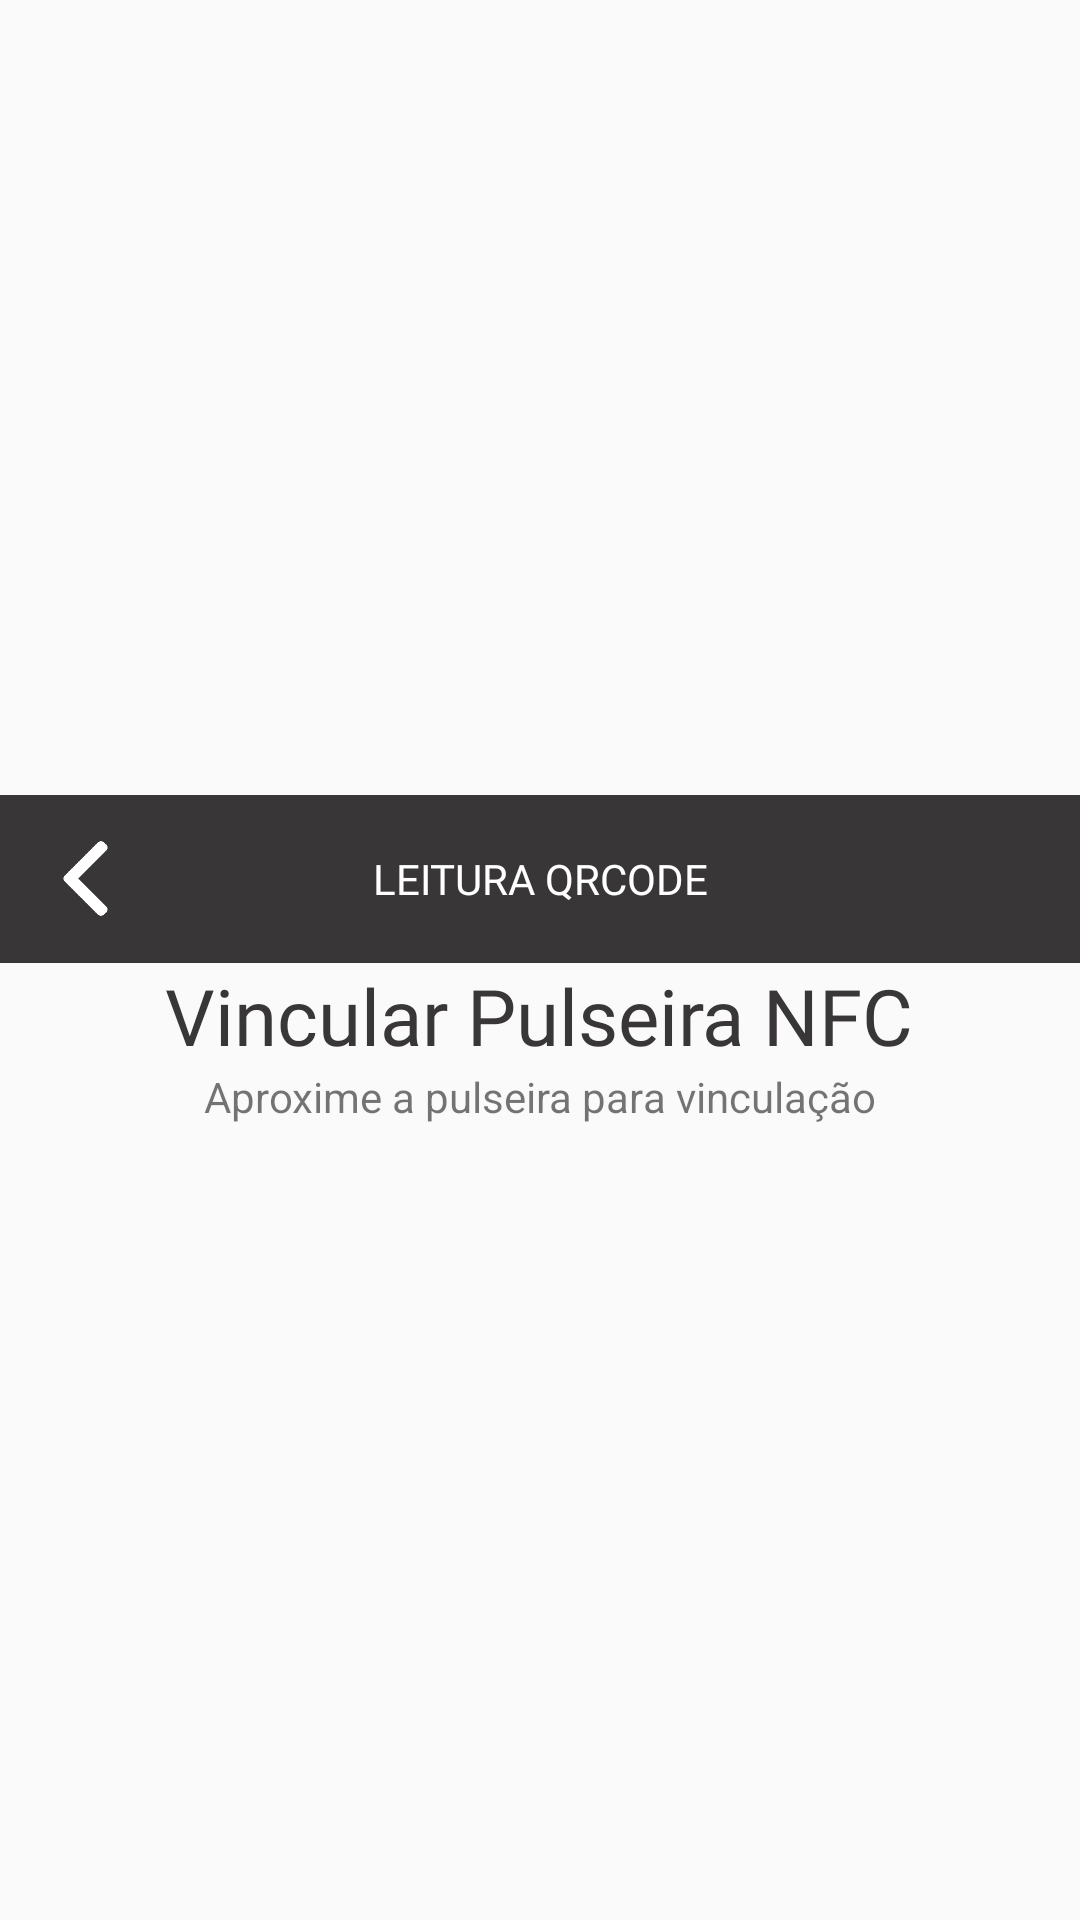

Named icons in this screenshot (1080*1920) and their bounding boxes, (x1, y1, x2, y2):
left arrow: (63, 841, 108, 916)
